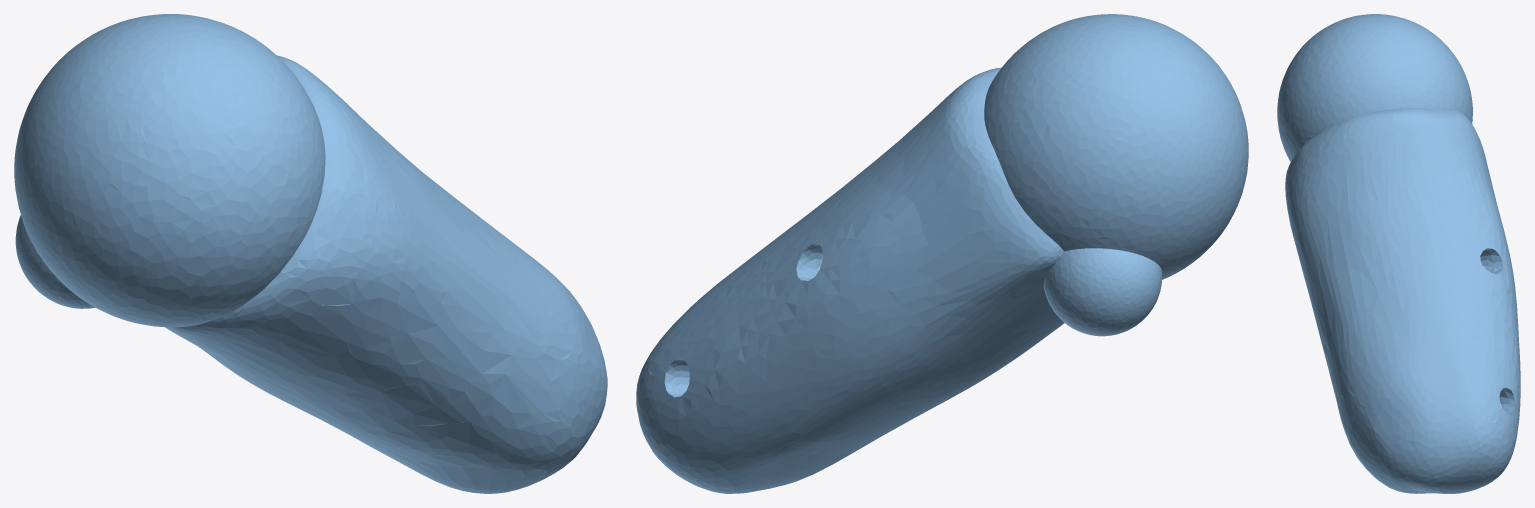
File: body_right.glb
3 views of the same model, side by side, from view 1: azimuth 30°, elevation 25°; view 2: azimuth 150°, elevation 25°; view 3: azimuth 270°, elevation 25° (orthographic). The views are drawn at different scales.
Parts seen in each view (by area): view 1: right.stl.stl; view 2: right.stl.stl; view 3: right.stl.stl.
Boxes of the visible parts, x1,y1,x2,y2 form: right.stl.stl: [14, 14, 607, 493]; right.stl.stl: [636, 14, 1248, 493]; right.stl.stl: [1277, 14, 1520, 493].
Bounding box in the file's own units: 252 × 229 × 141.
